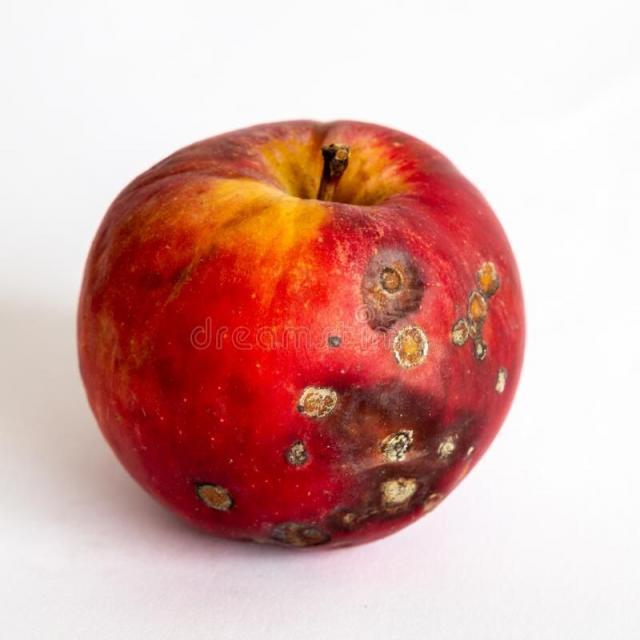Rotten: (105, 125, 505, 545)
